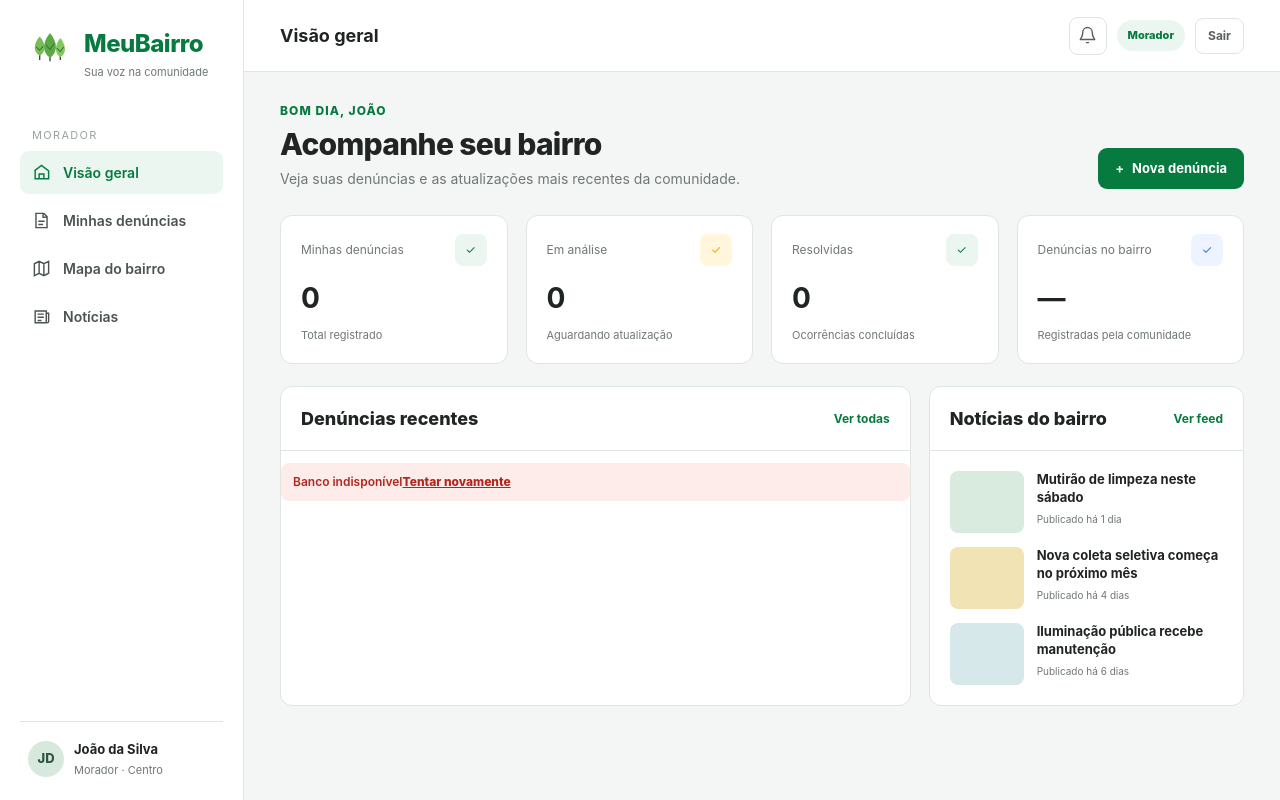
Test: MeuBairro integration with the API (Entrega 4) › shows an error banner on the dashboard and recovers on retry
Check: the message shows "Banco indisponível", box [293,474,402,489]
What coordinates should you click on to do the following:
click the button "Tentar novamente"
I would click on:
 (457, 482)
Its box is [402,473,511,491].
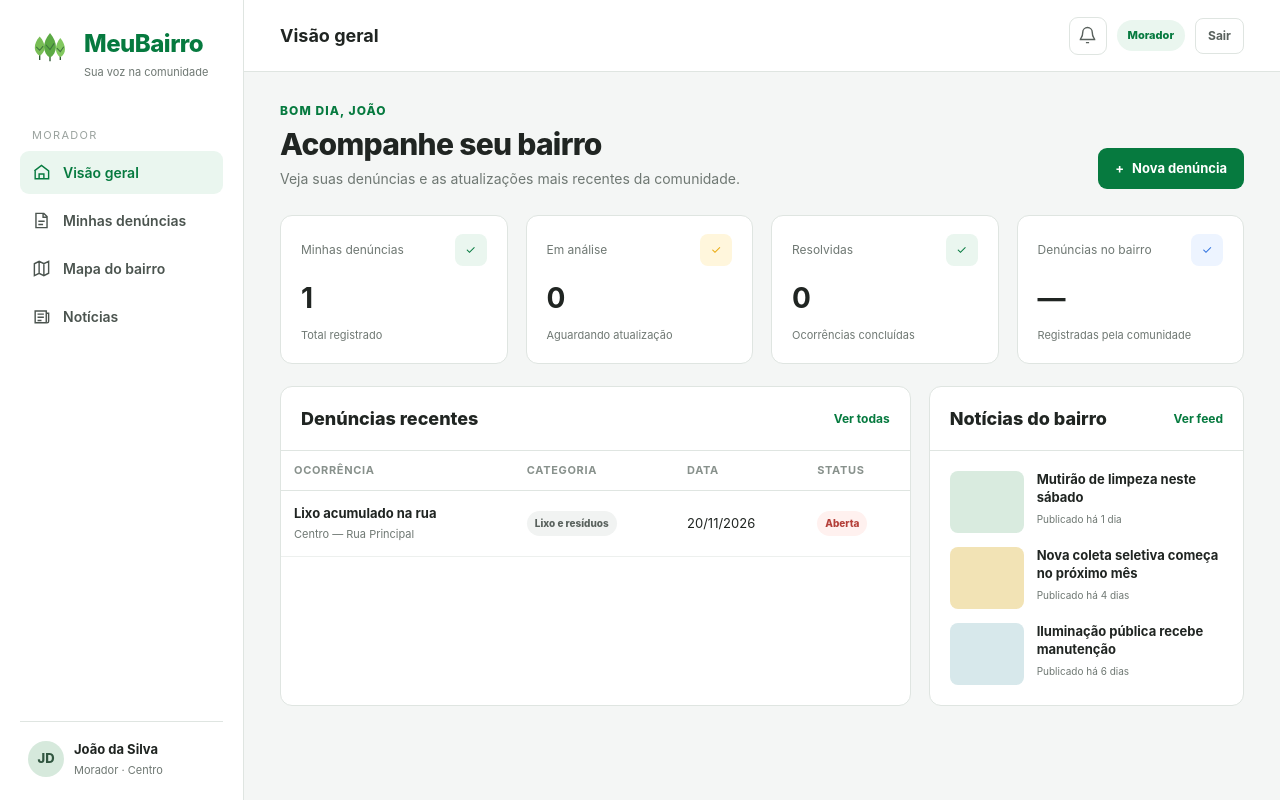
Check: the text "Lixo acumulado na rua" is shown, box [294,505,436,521]
Check: the message "Banco indisponível Tentar novamente" is gone
